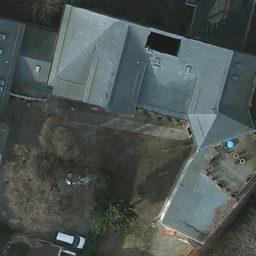car: (53, 230, 84, 248)
